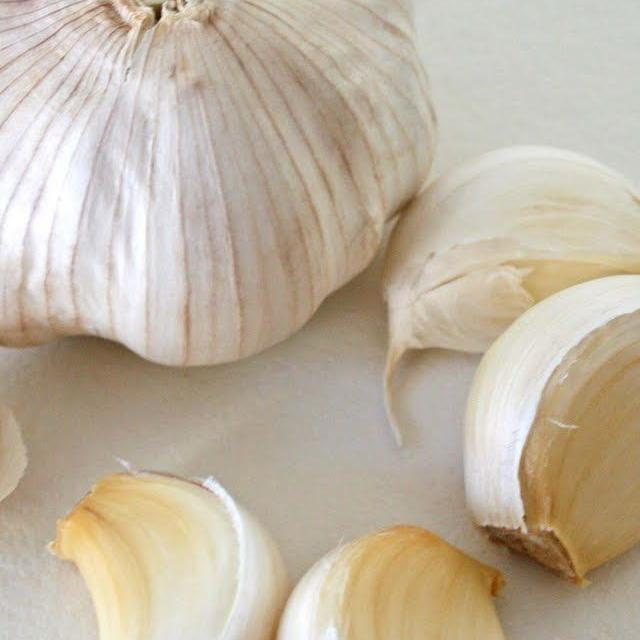garlic: (0, 0, 412, 351), (455, 274, 640, 579), (64, 464, 268, 640), (276, 514, 506, 640)
